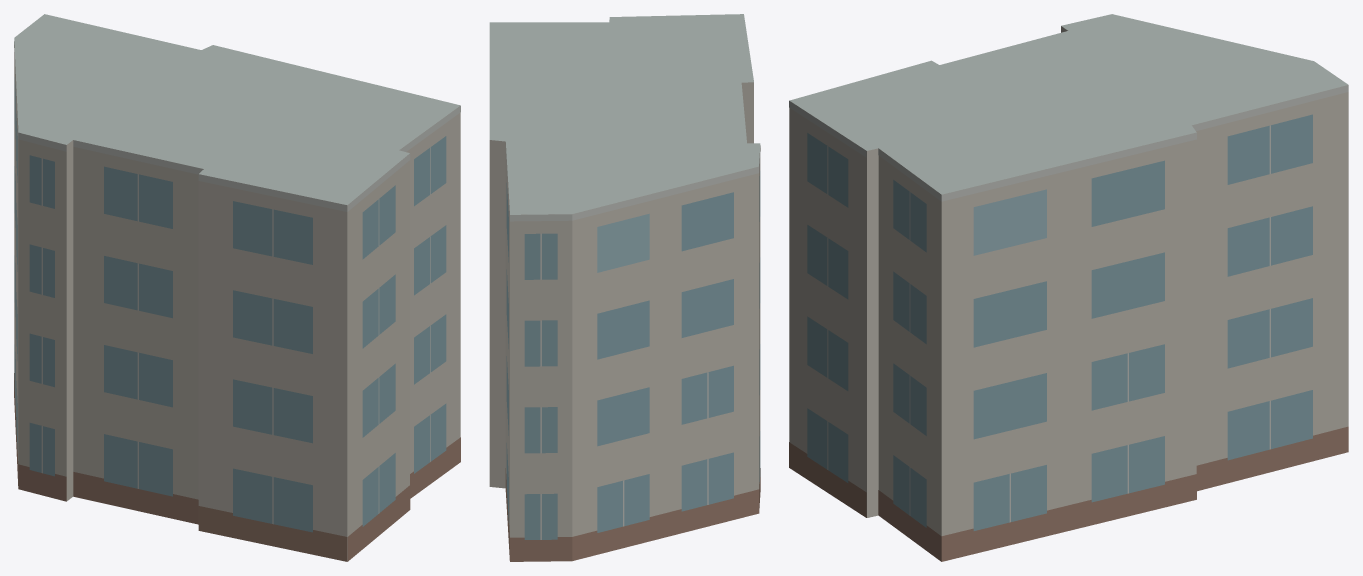
File: survey-upis-32894134.glb
3 views of the same model, side by side, from view 1: azimuth 30°, elevation 25°; view 2: azimuth 150°, elevation 25°; view 3: azimuth 270°, elevation 25° (orthographic). The views are drawn at different scales.
Parts seen in each view (by area): view 1: survey-upis-32894134.tmp; view 2: survey-upis-32894134.tmp; view 3: survey-upis-32894134.tmp.
Part boxes in pixels (box(x1,y1,x2,y2)): survey-upis-32894134.tmp: box(14, 14, 460, 561); survey-upis-32894134.tmp: box(489, 14, 760, 561); survey-upis-32894134.tmp: box(789, 14, 1348, 561).
Size of the model in its own units: 13.52 by 12.8 by 17.68.
